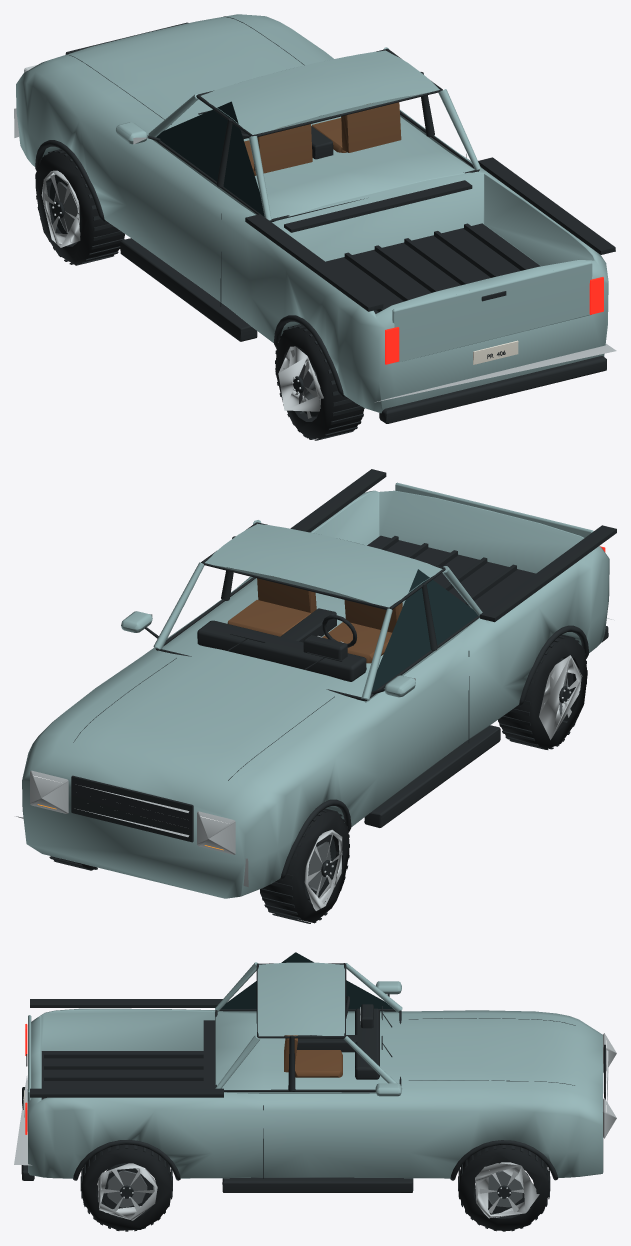
File: traffic-pickup-lod.glb
The picture shows the model from 3 angles, top to bottom: view 1: azimuth 30°, elevation 25°; view 2: azimuth 150°, elevation 25°; view 3: azimuth 270°, elevation 25°; orthographic projection. The views are drawn at different scales.
Visible parts, largest first — view 1: Traffic enamel.003, Traffic polymer.003, Traffic tire rubber.003, Traffic upholstery.003, Traffic smoked glazing.003, Traffic satin alloy.003, Traffic ruby lamps.003, Dark brake steel.003, Traffic registration.003; view 2: Traffic enamel.003, Traffic polymer.003, Traffic tire rubber.003, Traffic satin alloy.003, Traffic upholstery.003, Traffic smoked glazing.003, Dark brake steel.003; view 3: Traffic enamel.003, Traffic polymer.003, Traffic tire rubber.003, Traffic satin alloy.003, Dark brake steel.003, Traffic upholstery.003, Traffic smoked glazing.003.
Boxes of the visible parts, box(x1,y1,x2,y2) form: Traffic enamel.003: box(16, 14, 608, 413); Traffic polymer.003: box(35, 16, 615, 440); Traffic tire rubber.003: box(35, 150, 363, 438); Traffic upholstery.003: box(244, 102, 401, 175); Traffic smoked glazing.003: box(156, 101, 264, 216); Traffic satin alloy.003: box(14, 65, 616, 418); Traffic ruby lamps.003: box(385, 277, 603, 364); Dark brake steel.003: box(54, 181, 317, 403); Traffic registration.003: box(473, 340, 518, 364); Traffic enamel.003: box(22, 482, 609, 898); Traffic polymer.003: box(49, 469, 616, 923); Traffic tire rubber.003: box(50, 635, 587, 922); Traffic satin alloy.003: box(16, 614, 614, 910); Traffic upholstery.003: box(227, 576, 402, 663); Traffic smoked glazing.003: box(371, 569, 478, 693); Dark brake steel.003: box(308, 672, 568, 891); Traffic enamel.003: box(27, 962, 603, 1178); Traffic polymer.003: box(21, 963, 605, 1231); Traffic tire rubber.003: box(81, 1144, 549, 1230); Traffic satin alloy.003: box(14, 1007, 616, 1220); Dark brake steel.003: box(107, 1170, 523, 1207); Traffic upholstery.003: box(284, 1035, 342, 1077); Traffic smoked glazing.003: box(221, 952, 393, 1009).
Bounding box in the file's own units: 2.2 × 1.83 × 5.11.
